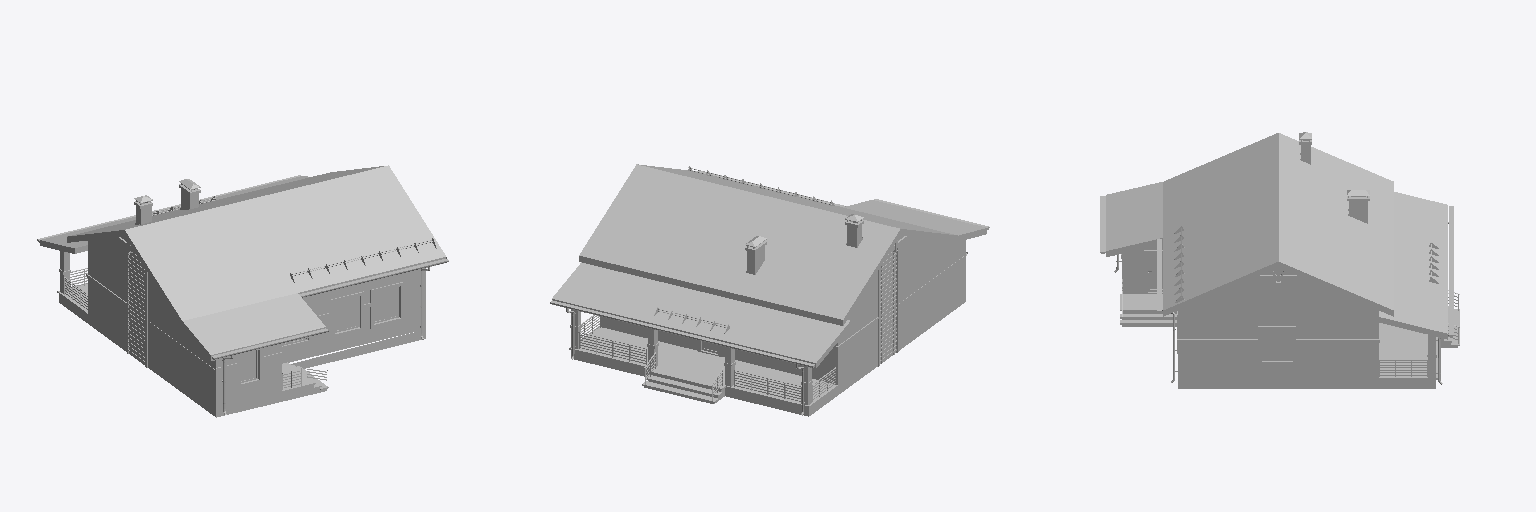
Rendered from Cottage.obj.
3 renders of one model, left to right at view 1: azimuth 30°, elevation 25°; view 2: azimuth 150°, elevation 25°; view 3: azimuth 270°, elevation 25°, orthographic.
Visible parts, largest first — view 1: Cottage; view 2: Cottage; view 3: Cottage.
Boxes of the visible parts, box(x1,y1,x2,y2) form: Cottage: box(37, 165, 448, 417); Cottage: box(550, 164, 989, 416); Cottage: box(1100, 132, 1459, 388).
Bounding box in the file's own units: 12.44 × 6.75 × 14.65.